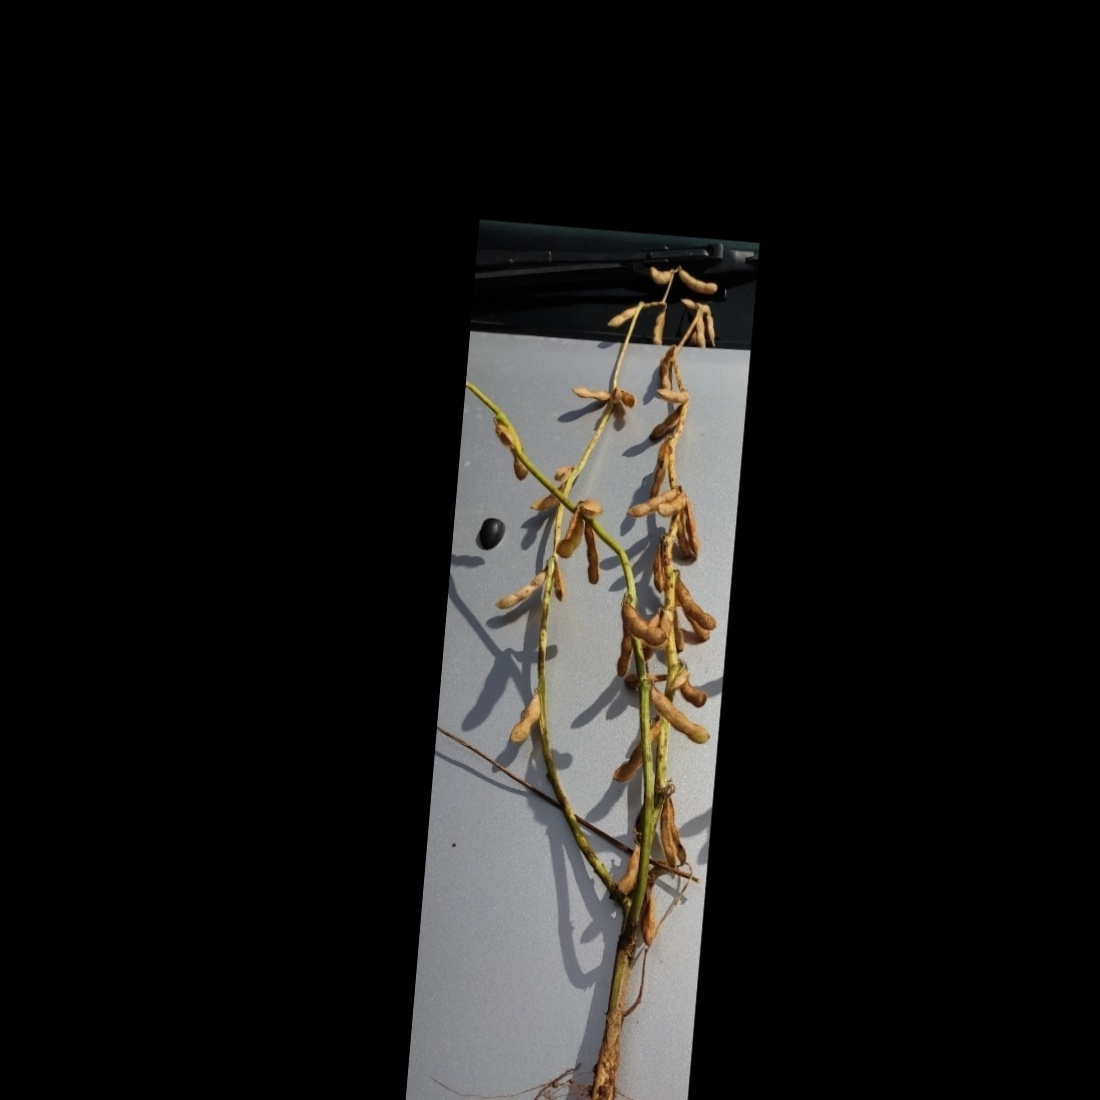pod: (645, 687, 714, 745), (672, 570, 725, 632), (490, 558, 546, 614), (617, 598, 671, 647), (624, 477, 679, 521), (575, 518, 605, 596), (669, 260, 724, 300), (507, 689, 542, 751), (617, 838, 644, 898), (604, 300, 642, 331), (569, 382, 614, 407), (645, 385, 690, 406), (647, 306, 667, 353)
soy: (418, 236, 754, 1100)
